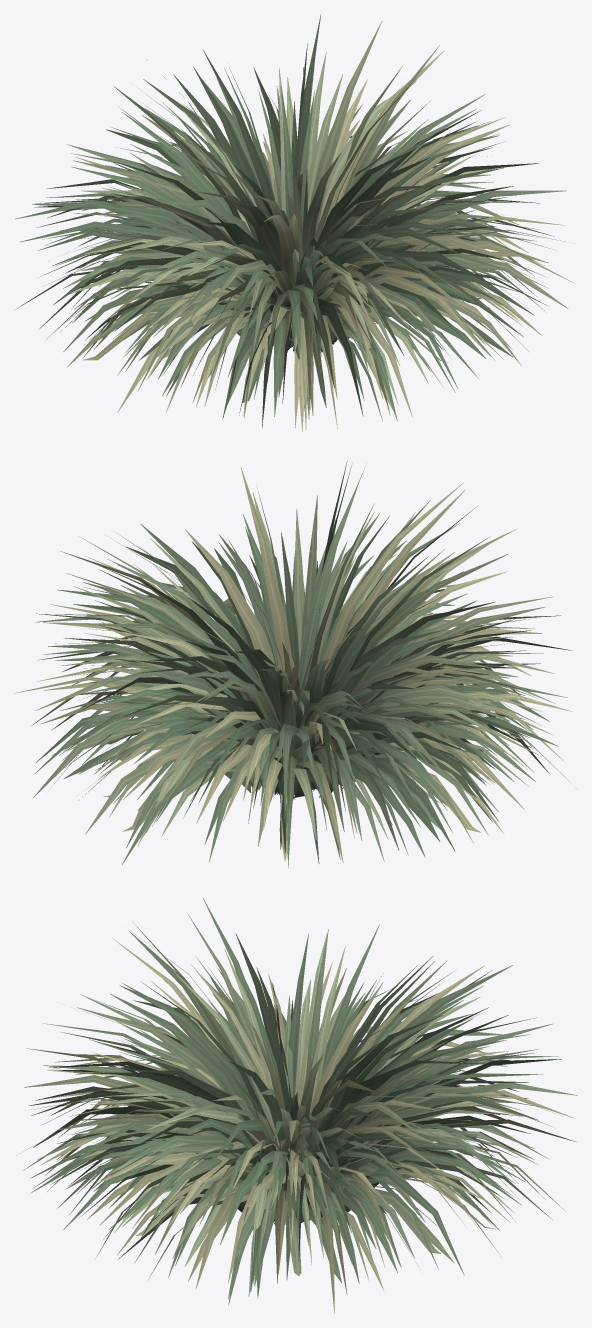
Rendered from alpine_tussock_v01.fbx.
3 views of the same model, one above another, from view 1: azimuth 30°, elevation 25°; view 2: azimuth 150°, elevation 25°; view 3: azimuth 270°, elevation 25° (orthographic). The views are drawn at different scales.
Parts seen in each view (by area): view 1: alpine_tussock_v01; view 2: alpine_tussock_v01; view 3: alpine_tussock_v01.
Boxes of the visible parts, x1,y1,x2,y2 form: alpine_tussock_v01: [15, 14, 574, 431]; alpine_tussock_v01: [14, 461, 577, 868]; alpine_tussock_v01: [16, 897, 577, 1313].
Bounding box in the file's own units: 47.05 × 47.6 × 24.01.
1 material, 1 textured.
